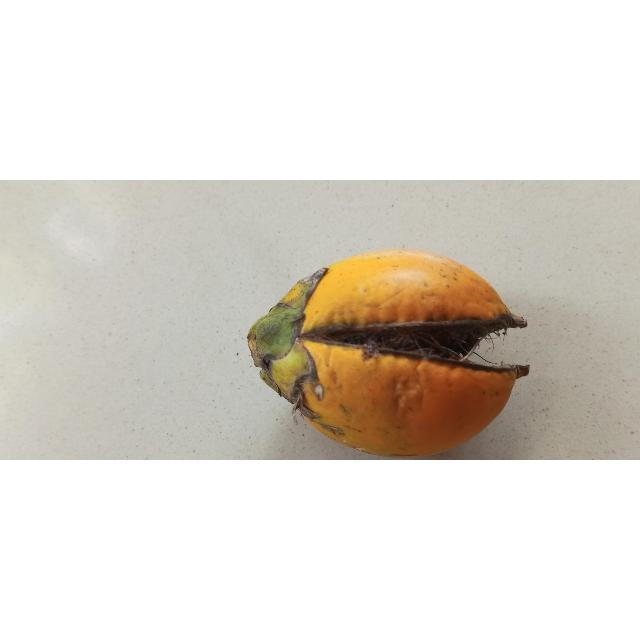damaged: (247, 250, 529, 458)
